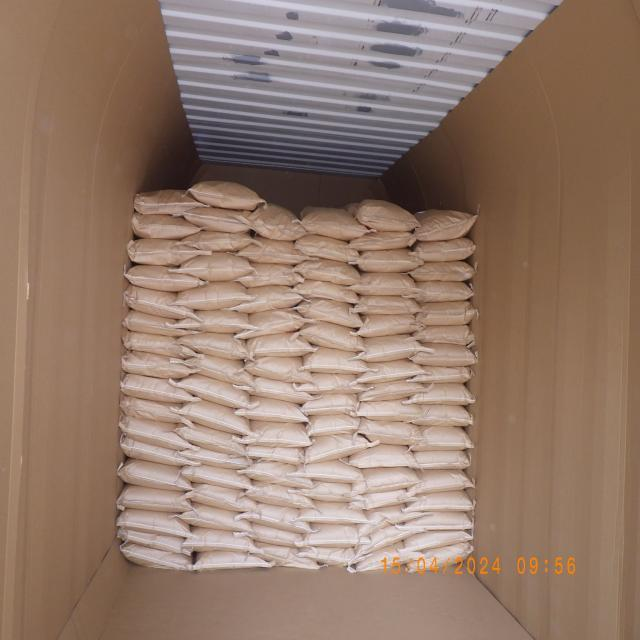gunny_bag: (184, 351, 253, 391), (124, 282, 194, 320), (354, 504, 432, 538), (178, 372, 248, 409), (178, 399, 248, 436), (120, 414, 188, 452), (238, 479, 318, 511), (117, 458, 192, 492), (120, 433, 194, 467), (350, 524, 424, 558), (237, 501, 314, 533), (175, 250, 253, 281), (234, 308, 312, 339), (236, 374, 316, 404), (176, 421, 244, 456), (118, 525, 190, 558), (180, 203, 252, 236), (187, 180, 266, 210), (299, 204, 368, 238), (353, 198, 421, 232), (115, 484, 192, 514), (116, 508, 193, 538), (120, 540, 192, 572), (356, 539, 425, 572), (119, 373, 194, 403), (298, 320, 368, 352), (248, 204, 305, 243), (180, 504, 254, 534), (409, 207, 476, 240), (300, 344, 369, 376), (125, 264, 203, 292), (120, 392, 188, 424), (302, 432, 372, 463), (245, 542, 322, 570), (176, 281, 250, 310), (296, 296, 363, 328), (121, 351, 194, 380), (185, 483, 258, 512), (180, 332, 250, 362), (244, 460, 314, 490), (122, 330, 196, 358), (293, 256, 362, 286), (133, 188, 205, 216), (236, 396, 308, 424), (293, 232, 360, 262), (124, 308, 190, 338), (180, 462, 250, 490), (237, 236, 307, 264), (356, 336, 426, 364), (130, 213, 202, 240), (352, 359, 424, 386), (344, 445, 421, 470), (128, 238, 202, 264), (350, 312, 424, 338), (183, 528, 260, 552), (356, 398, 422, 426), (358, 421, 424, 449), (294, 279, 361, 306), (182, 229, 257, 253), (400, 528, 472, 553), (176, 446, 254, 469), (235, 287, 309, 311), (238, 424, 312, 448), (402, 489, 476, 513), (351, 249, 422, 274), (346, 472, 419, 496), (242, 358, 312, 383), (404, 469, 474, 494), (293, 373, 369, 396), (356, 378, 428, 402), (181, 310, 250, 335), (247, 522, 308, 550), (409, 426, 474, 452), (188, 550, 272, 570), (350, 272, 420, 296), (238, 260, 302, 286), (298, 502, 372, 524), (291, 460, 363, 482), (293, 480, 365, 502), (346, 488, 412, 512), (408, 382, 474, 406), (411, 340, 476, 364), (400, 511, 474, 532), (411, 543, 472, 568), (296, 392, 361, 415), (242, 337, 313, 358), (298, 528, 372, 548), (242, 443, 306, 466), (345, 230, 417, 250), (412, 260, 476, 282), (416, 301, 477, 324), (410, 406, 472, 428), (408, 280, 476, 300), (406, 366, 474, 386), (349, 296, 424, 314), (408, 450, 471, 471), (300, 545, 358, 567), (414, 324, 476, 344), (303, 414, 360, 434), (412, 242, 477, 259)
